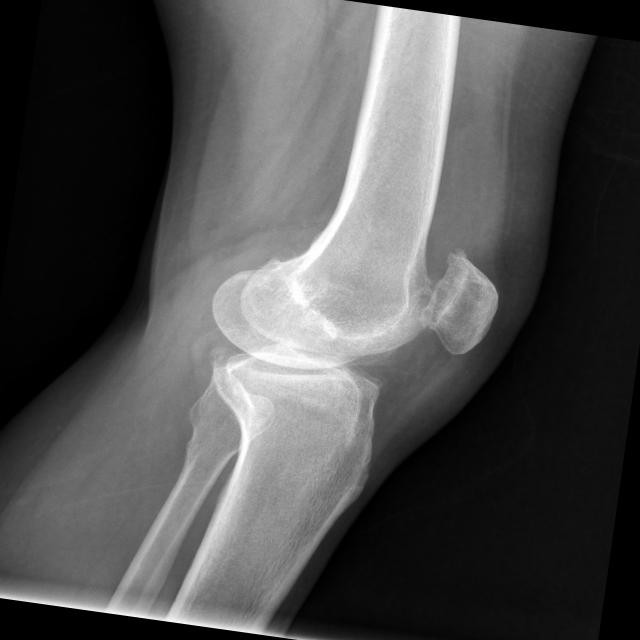Knee: (178, 210, 506, 455)
